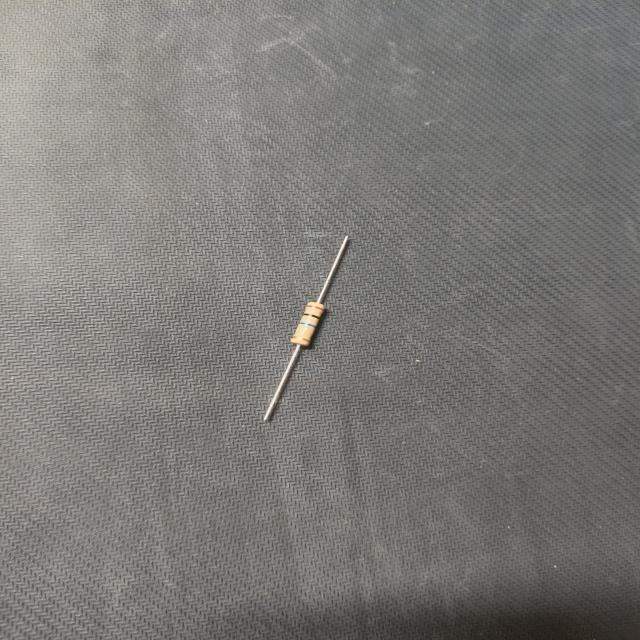resistor: (252, 225, 364, 426)
